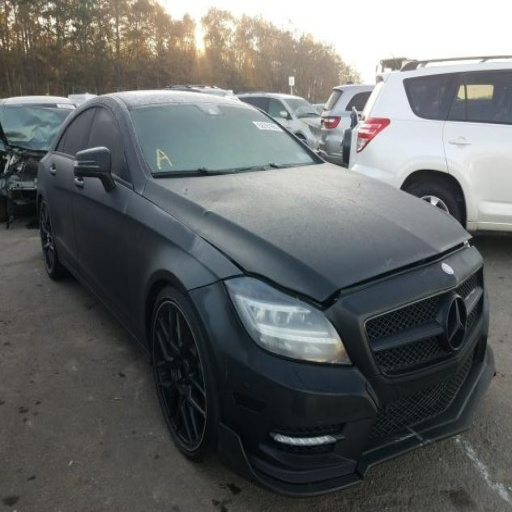dent: (169, 217, 213, 266), (205, 183, 257, 214), (181, 187, 189, 198)
rust: (198, 202, 219, 223)
scratch: (385, 426, 422, 445), (220, 354, 233, 386), (412, 436, 436, 448)
